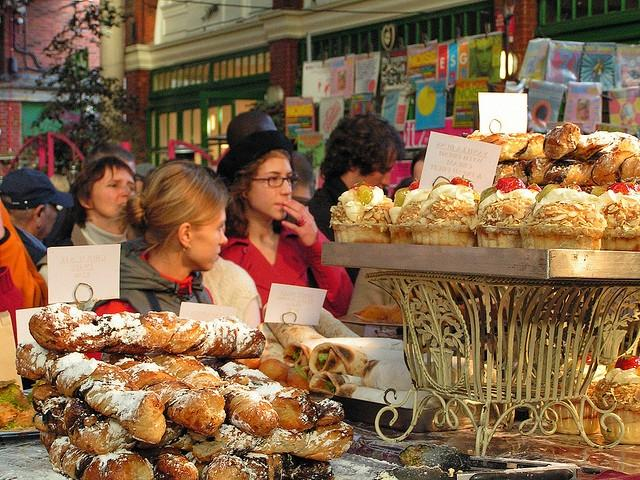strawberry: (495, 177, 526, 194), (615, 350, 637, 371), (607, 182, 630, 196), (450, 176, 474, 189), (561, 178, 582, 192), (409, 178, 420, 191), (580, 354, 592, 365), (526, 184, 542, 192), (366, 184, 374, 190)
